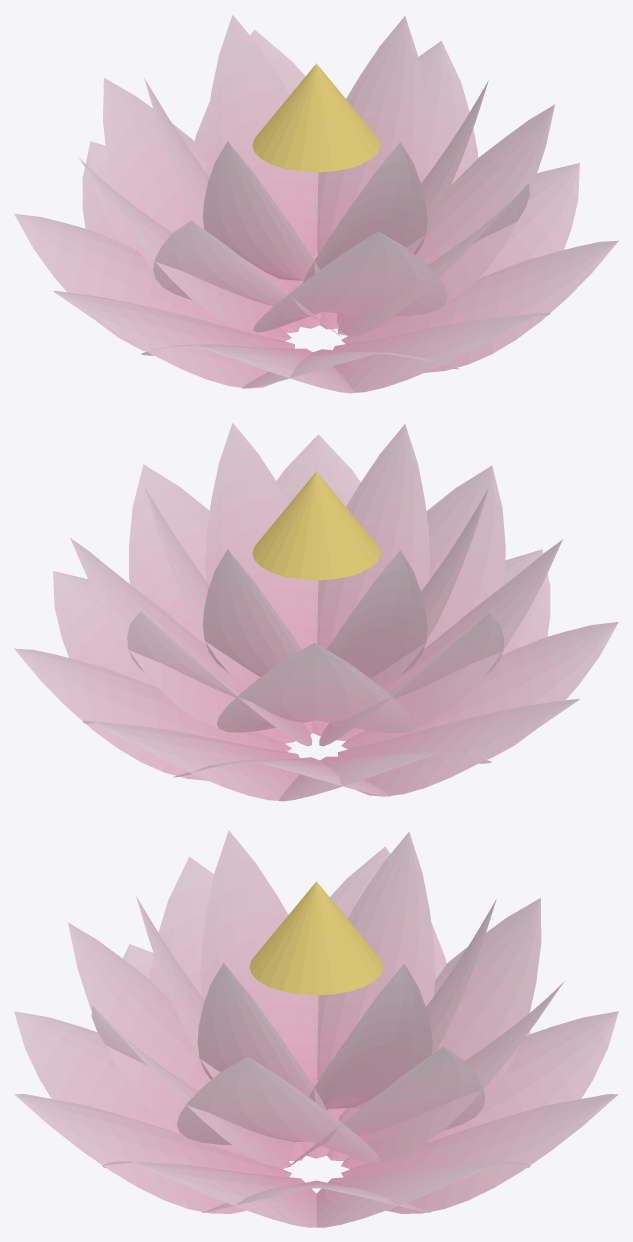
Rendered from pickup.glb.
3 renders of one model, top to bottom at view 1: azimuth 30°, elevation 25°; view 2: azimuth 150°, elevation 25°; view 3: azimuth 270°, elevation 25°, orthographic. The views are drawn at different scales.
Size of the model in its own units: 0.2775 by 0.1387 by 0.2639.
